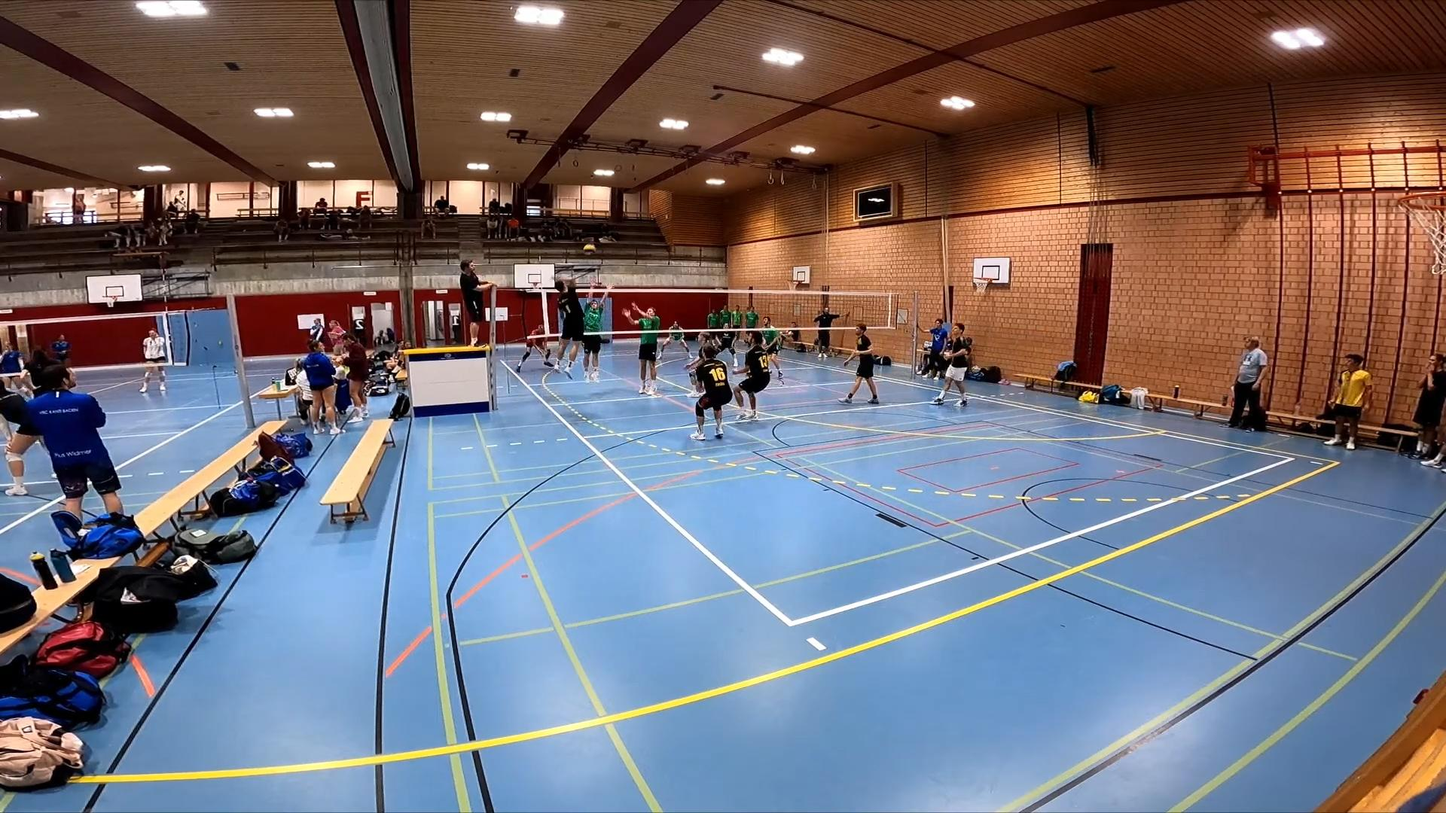Attack: (548, 274, 589, 378)
Block: (572, 276, 612, 376)
Player: (690, 346, 732, 440), (623, 303, 660, 394), (734, 330, 770, 420), (932, 322, 969, 406), (839, 323, 877, 403), (685, 331, 717, 394), (514, 325, 553, 372), (762, 315, 783, 381), (659, 320, 690, 355), (706, 310, 721, 332)
ball: (581, 243, 595, 251)
